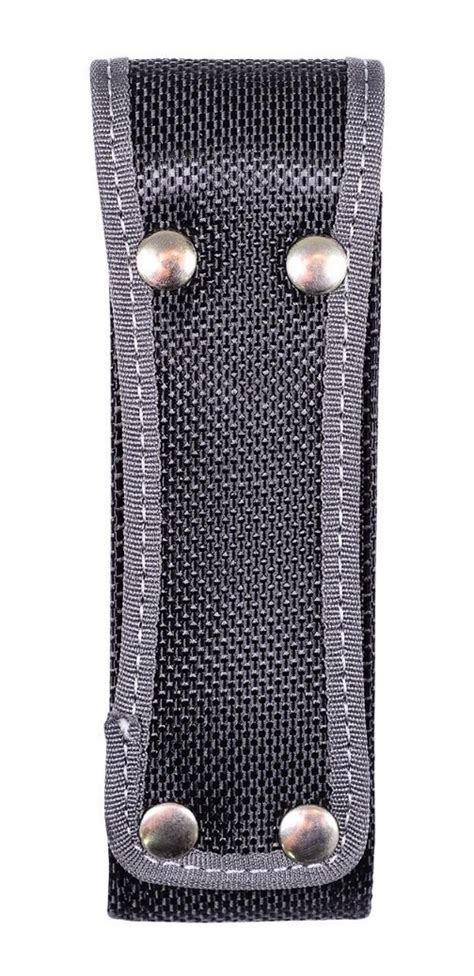nylon: (90, 56, 386, 925)
